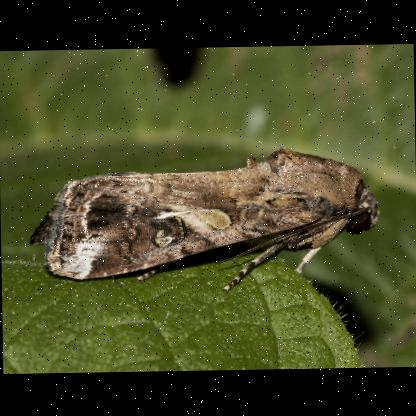Fall Armyworm Moth: (22, 141, 384, 297)
